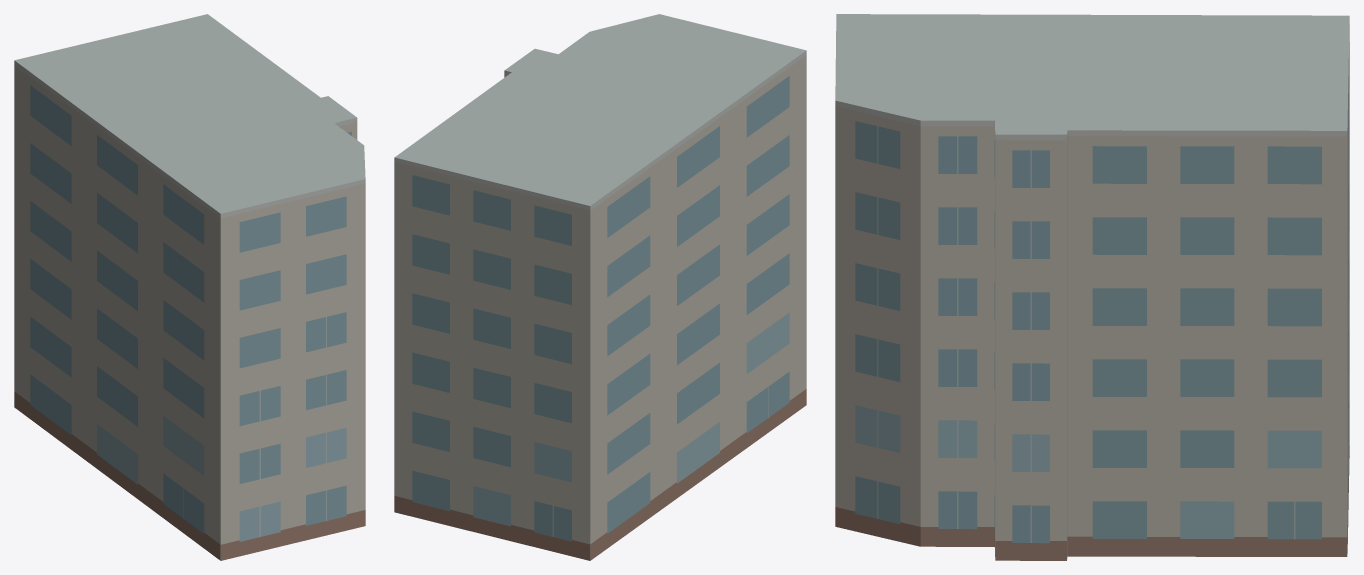
The model's file is survey-upis-33031782.glb.
3 views of the same model, side by side, from view 1: azimuth 30°, elevation 25°; view 2: azimuth 150°, elevation 25°; view 3: azimuth 270°, elevation 25° (orthographic). The views are drawn at different scales.
Parts seen in each view (by area): view 1: survey-upis-33031782.tmp; view 2: survey-upis-33031782.tmp; view 3: survey-upis-33031782.tmp.
Boxes of the visible parts, x1,y1,x2,y2 form: survey-upis-33031782.tmp: (14, 14, 365, 560); survey-upis-33031782.tmp: (394, 14, 806, 560); survey-upis-33031782.tmp: (835, 14, 1349, 560).
Size of the model in its own units: 11.25 by 18.5 by 20.25.
